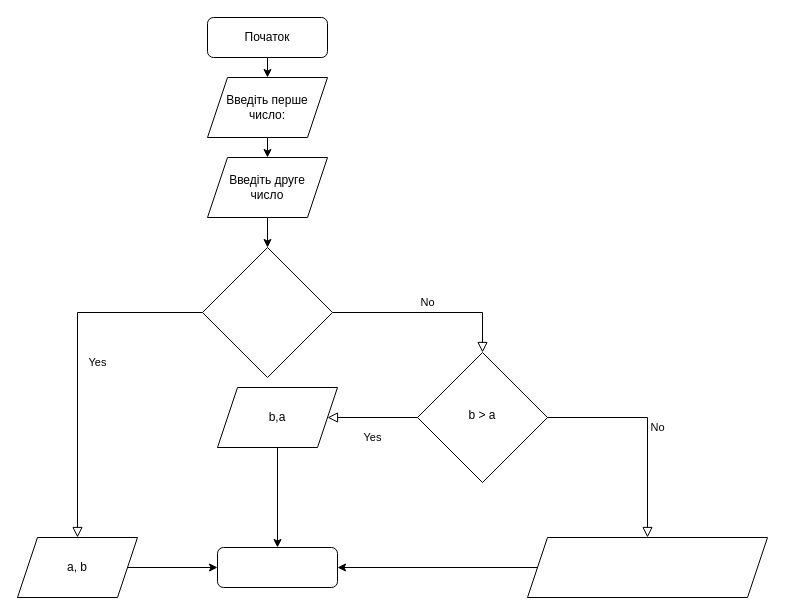
Image size: 785x615. Some labels were removed from this diagram. Each missing label, with the box of its shape:
a > b: (202, 246, 332, 378)
Ви впевнені, що ввели не однакові числа?: (526, 536, 768, 598)
Кінець: (216, 546, 338, 588)
